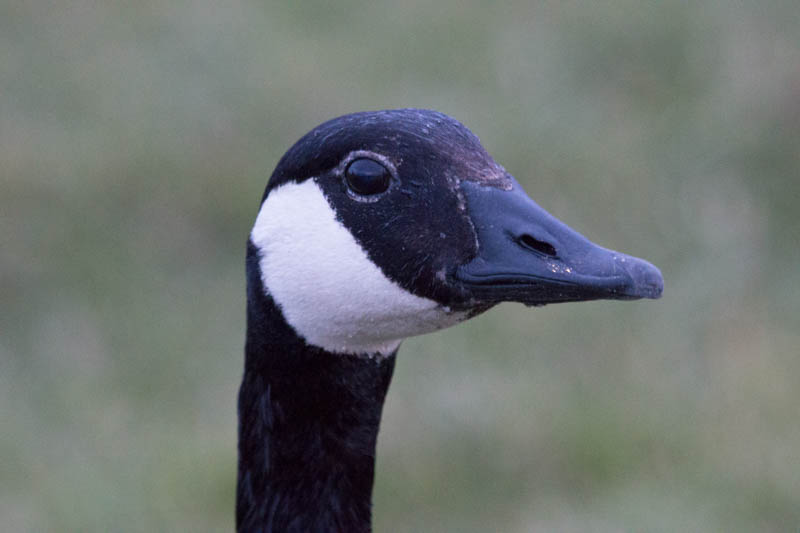goose-head: (244, 108, 665, 361)
